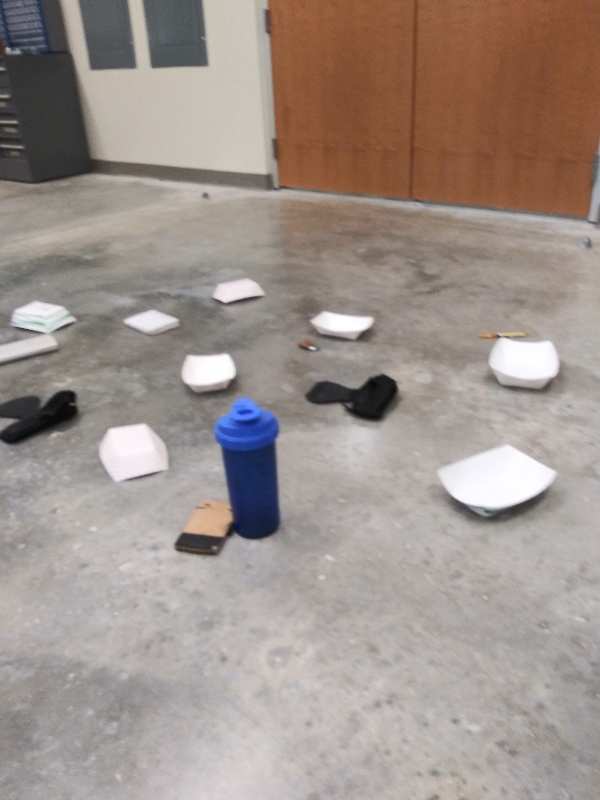plate: (435, 441, 562, 526), (94, 422, 174, 486), (486, 335, 567, 395), (3, 298, 84, 335), (180, 349, 238, 399), (305, 309, 381, 346), (209, 275, 270, 306)
